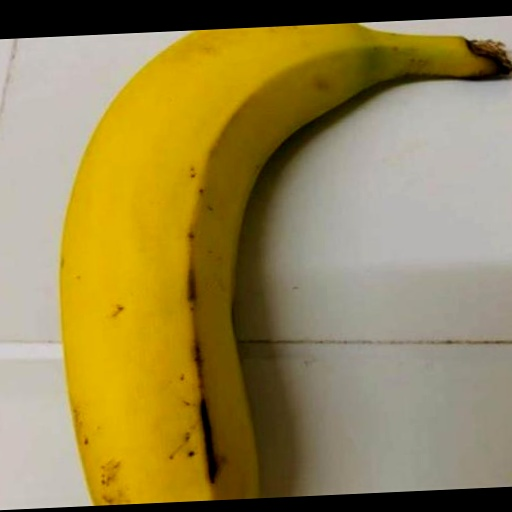fruit: (60, 23, 512, 505)
